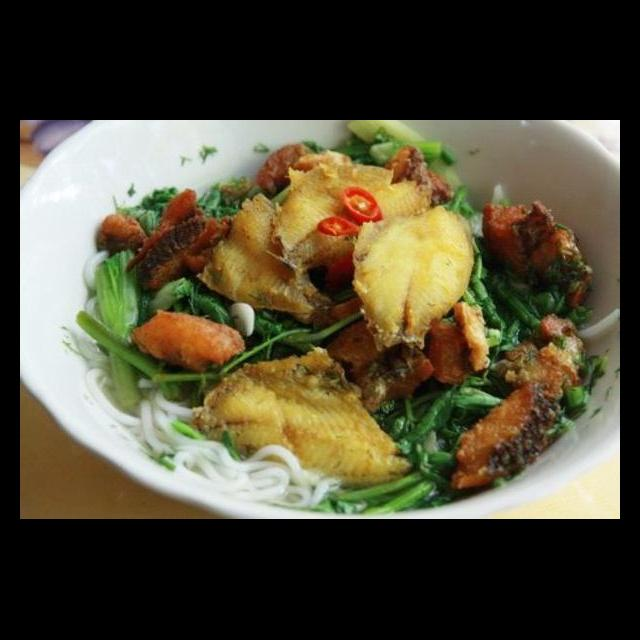bun: (138, 382, 336, 508), (263, 150, 438, 284)
bun ca: (38, 150, 620, 517)
ca: (188, 338, 418, 488), (446, 312, 594, 498), (348, 200, 482, 354), (308, 292, 440, 418), (471, 194, 599, 312), (199, 198, 319, 316), (123, 186, 234, 306), (128, 304, 248, 374)
